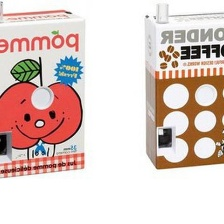carton: (0, 5, 91, 179), (130, 5, 224, 170)
